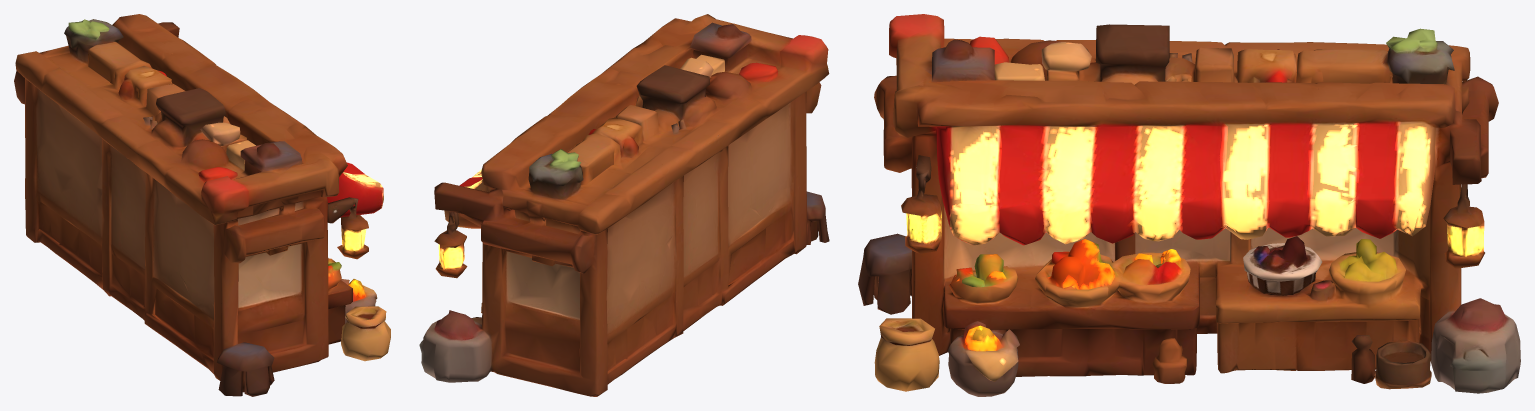
File: camp_market-j1vFmx5z.glb
3 renders of one model, left to right at view 1: azimuth 30°, elevation 25°; view 2: azimuth 150°, elevation 25°; view 3: azimuth 270°, elevation 25°, orthographic. The views are drawn at different scales.
Parts seen in each view (by area): view 1: tripo_node_95f165e6-3b49-4317-9ecb-45853545ad69; view 2: tripo_node_95f165e6-3b49-4317-9ecb-45853545ad69; view 3: tripo_node_95f165e6-3b49-4317-9ecb-45853545ad69.
Boxes of the visible parts, bbox=[...] form: tripo_node_95f165e6-3b49-4317-9ecb-45853545ad69: bbox=[14, 14, 390, 396]; tripo_node_95f165e6-3b49-4317-9ecb-45853545ad69: bbox=[419, 14, 829, 396]; tripo_node_95f165e6-3b49-4317-9ecb-45853545ad69: bbox=[858, 14, 1520, 396].
Bounding box in the file's own units: 0.456 × 0.4782 × 1.
1 material, 1 textured.
